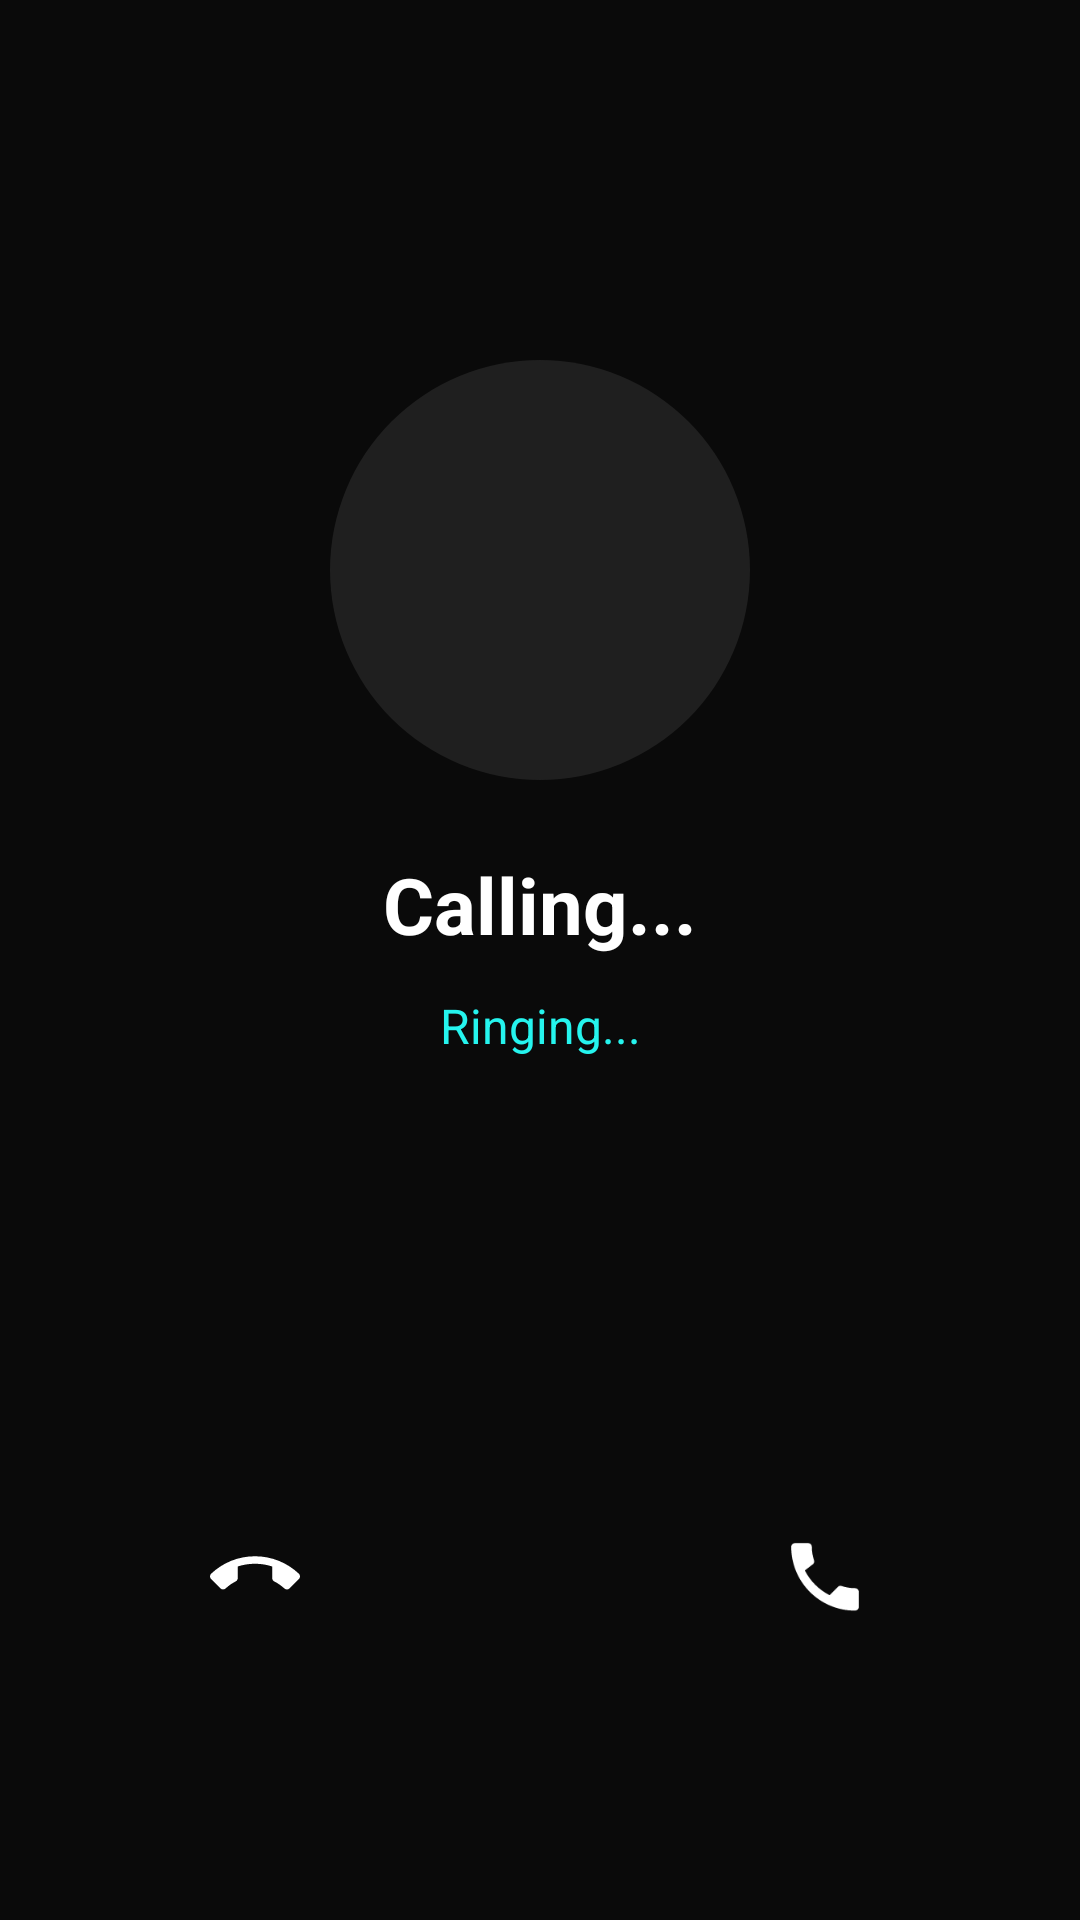

Icons on this 1080 × 1920 Android screen, each with the point to tap as [x,y]:
call accept: [825,1577]
call end: [255,1573]
